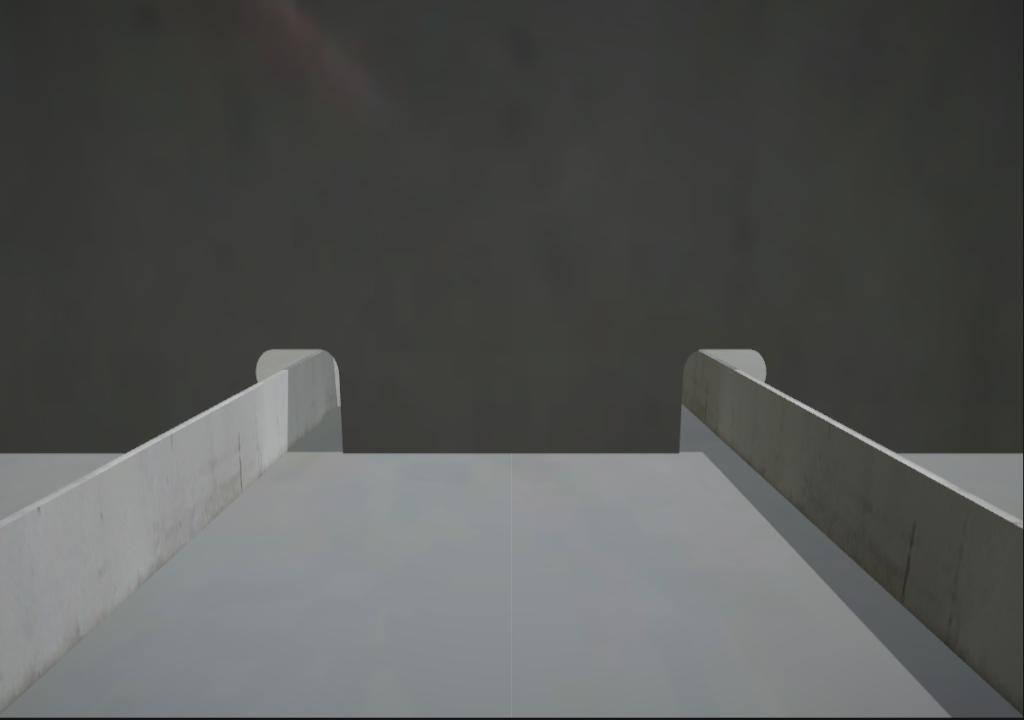fillet_yong_jeop_jang: (326, 436, 691, 467)
